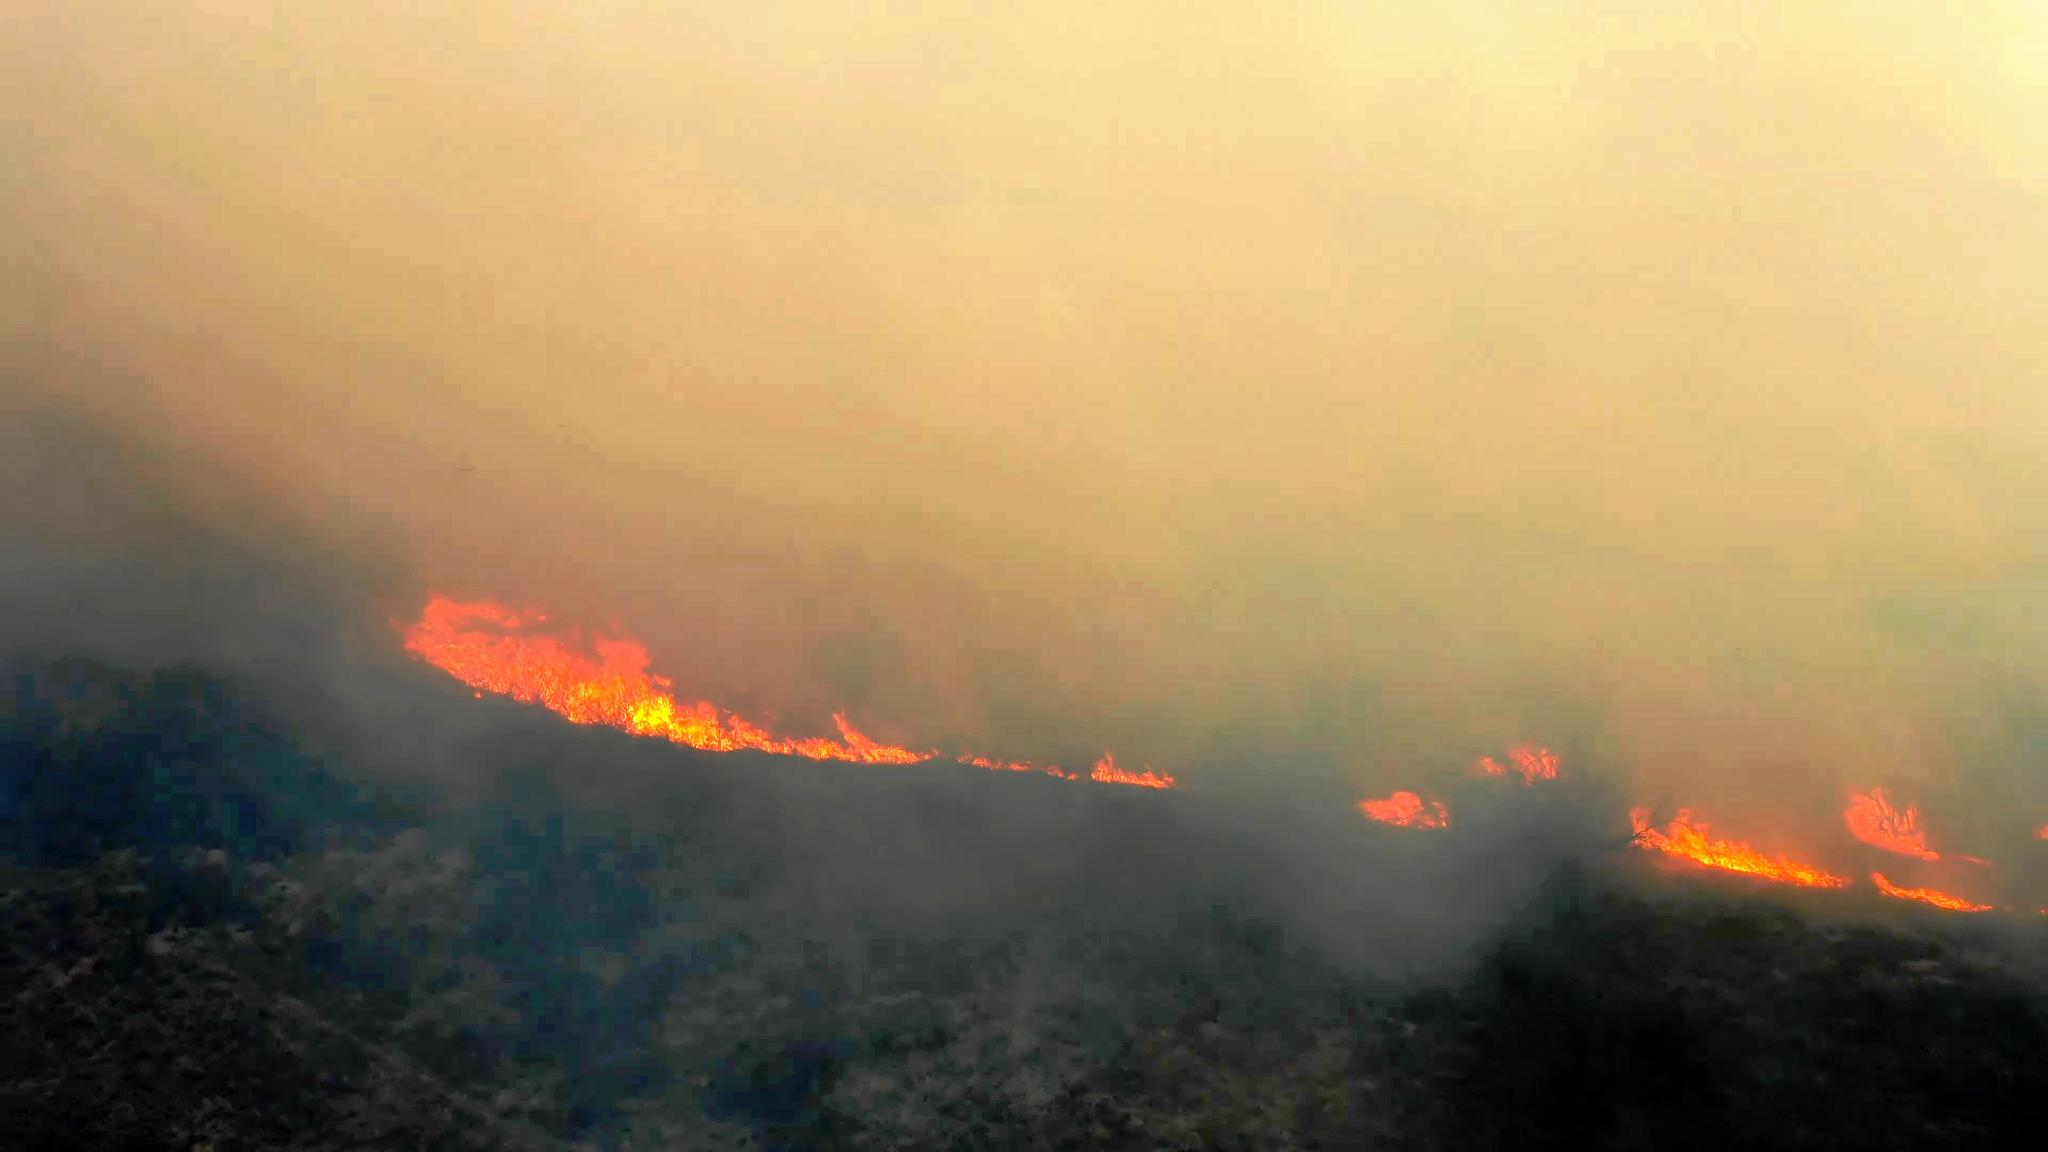fire: (1657, 805, 1944, 924), (432, 601, 650, 741), (650, 702, 899, 768)
